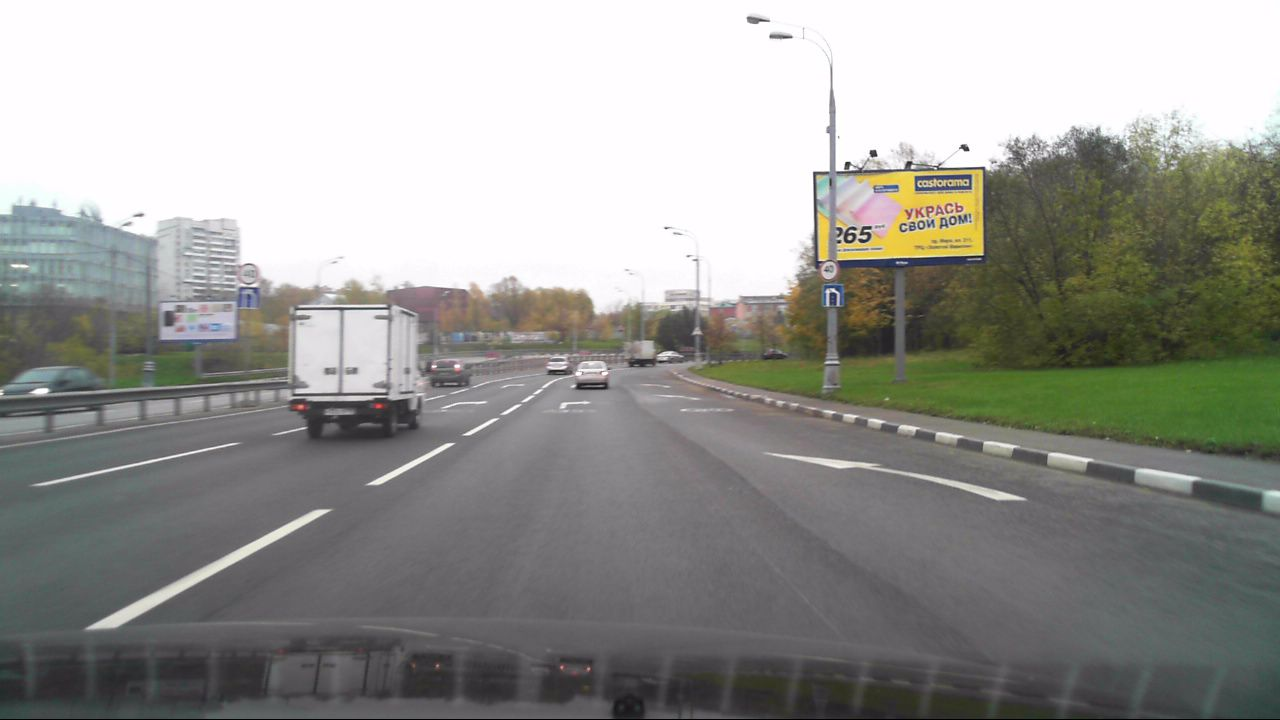speed_warning_40: (818, 258, 840, 282)
